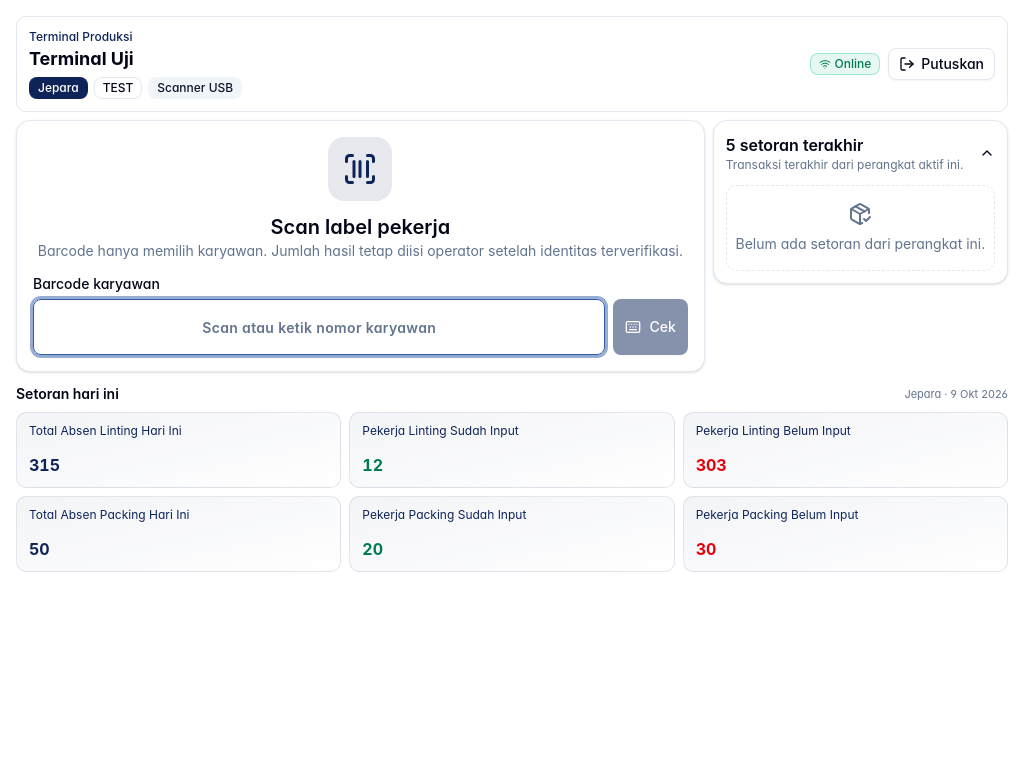
it: compact production deposit form › shows snapshot brand beside raw quantity in recent deposits without wage information
This screenshot has width=1024, height=768.
Type "TEST-001" into the field labelled "Barcode karyawan".
click(319, 327); type("TEST-001")  # box [33,299,606,355]
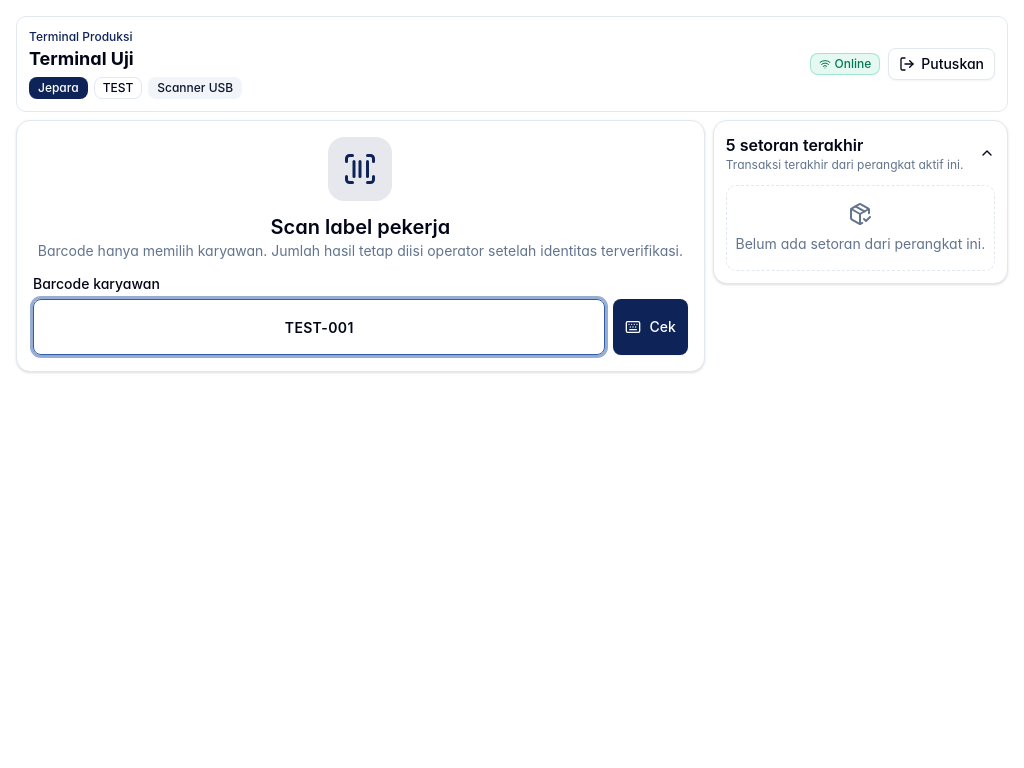
Click the button "Cek".
click(651, 327)  # box [614,299,688,355]
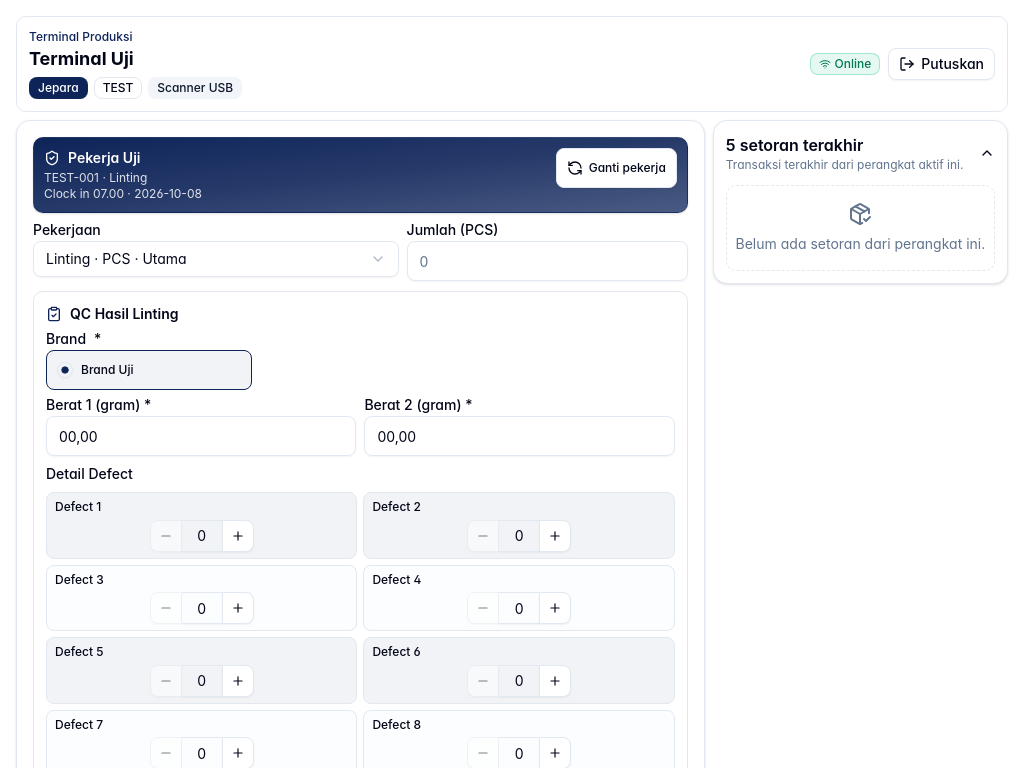
Type "500" into the field labelled "Jumlah (PCS)".
click(547, 261); type("500")  # box [407,241,688,281]
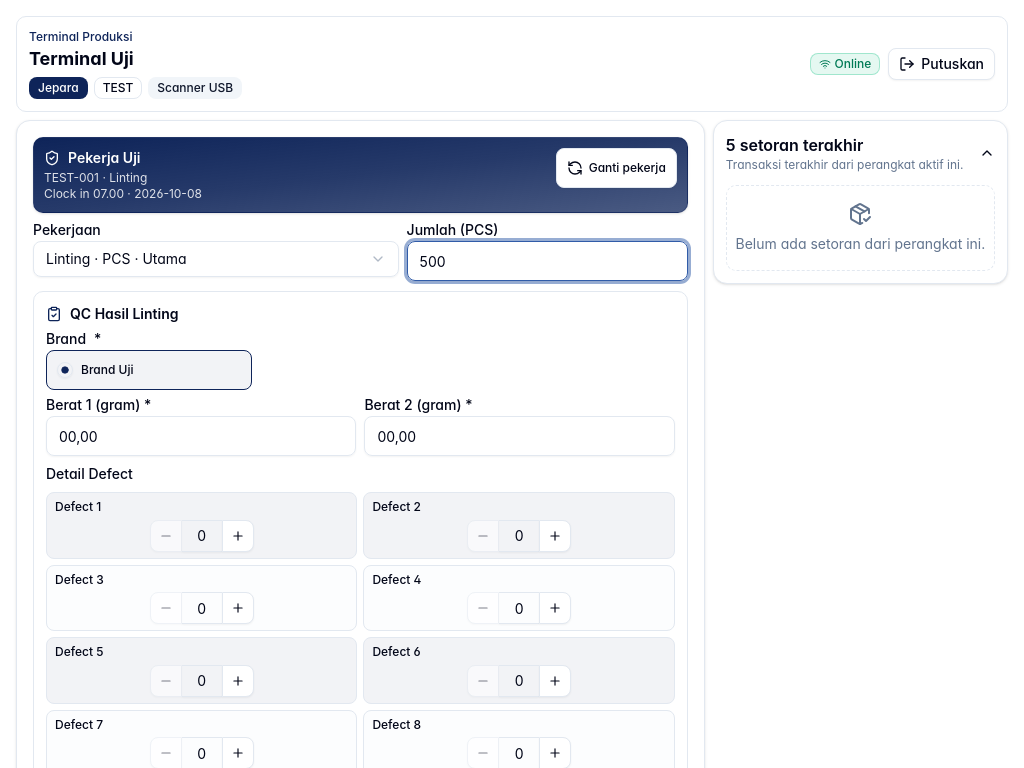
Type "80" into the field labelled "Berat 1 (gram) *".
click(201, 436); type("80")  # box [46,416,356,456]
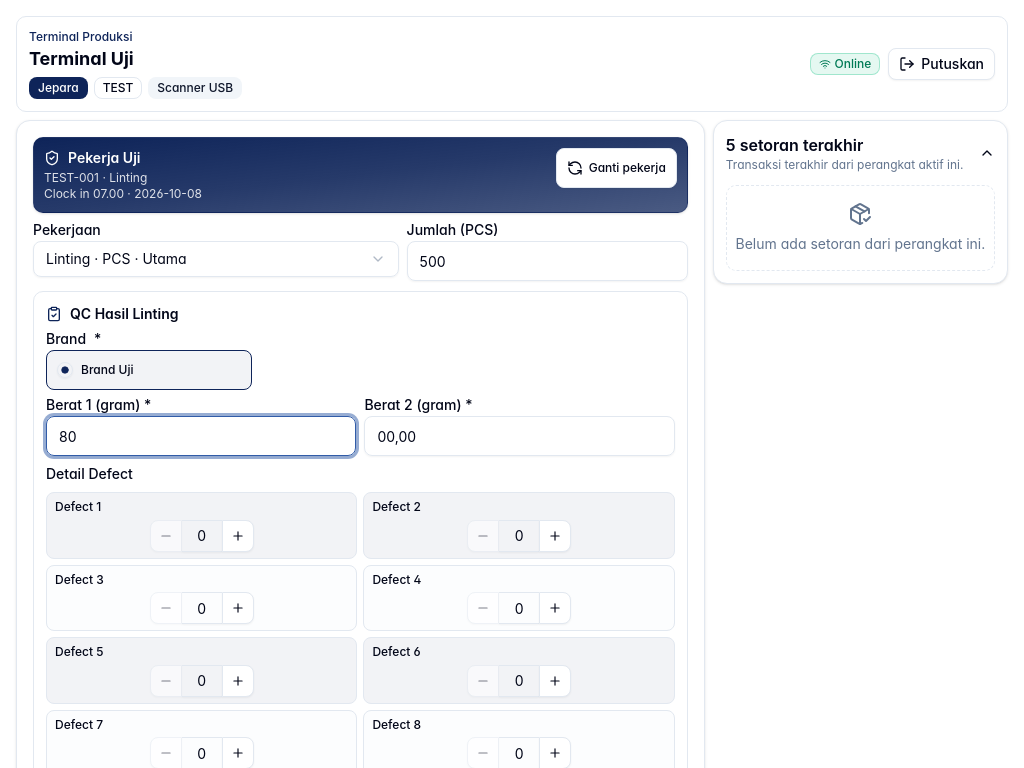
Type "81" into the field labelled "Berat 2 (gram) *".
click(520, 436); type("81")  # box [364,416,675,456]
(page scrolled)
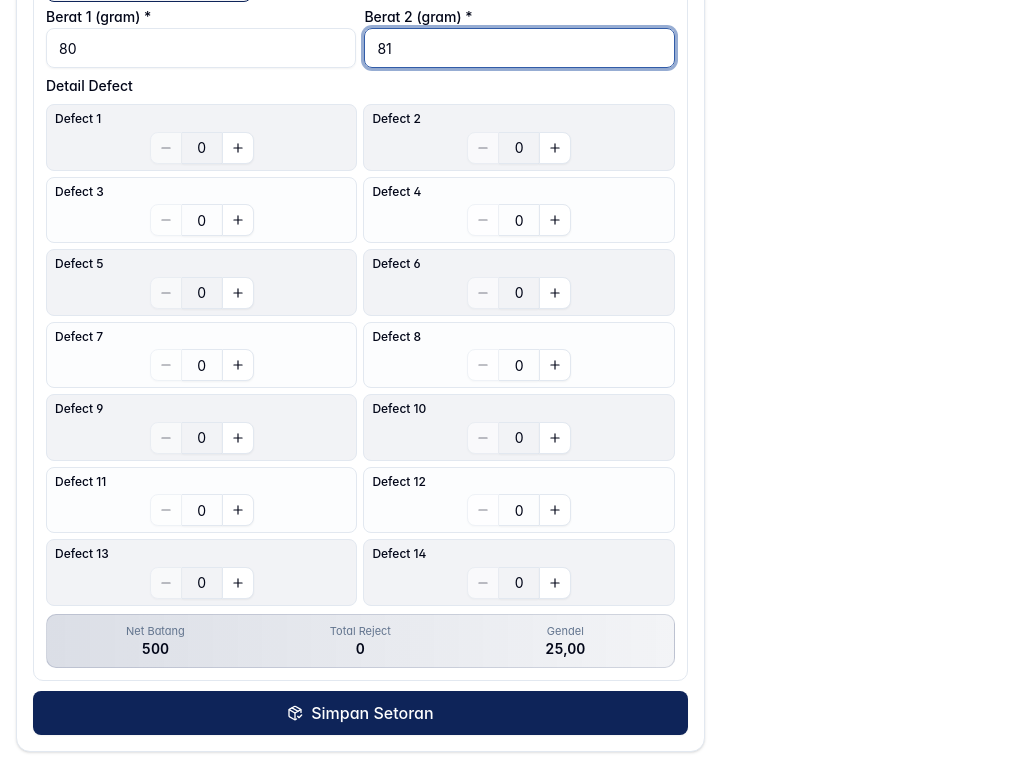
Click the button "Simpan Setoran".
click(360, 713)  # box [33,691,688,735]
(page scrolled)
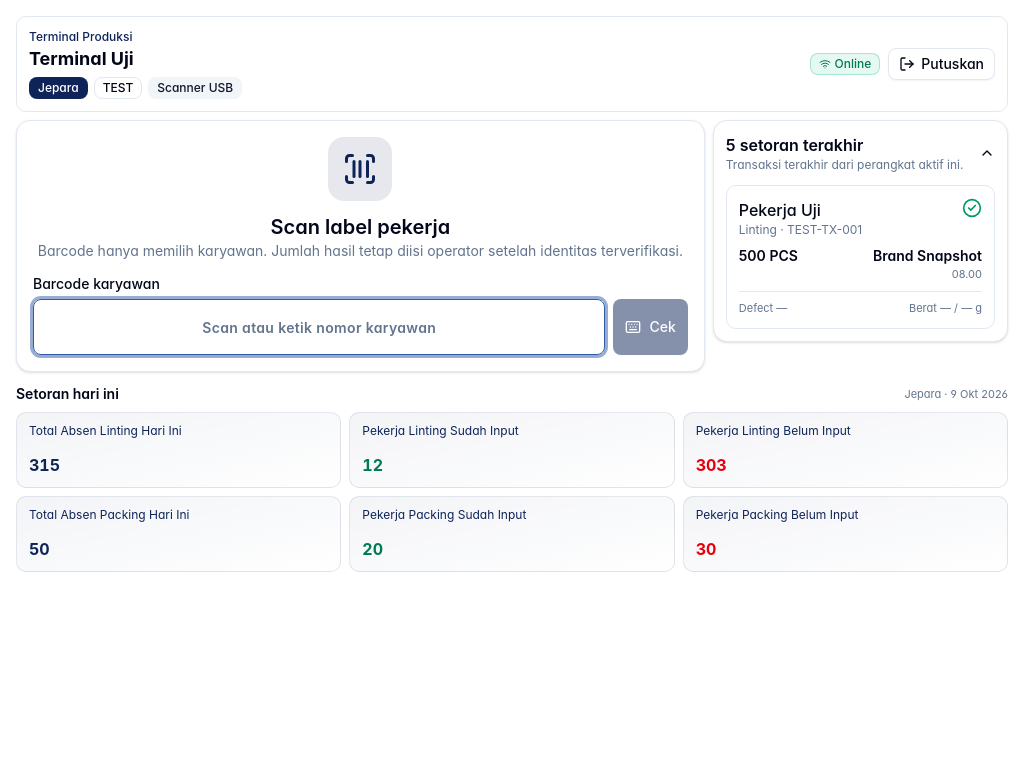
Result: the text "Brand Snapshot" is shown at [873,246,982,266]
Result: the text "500 PCS" is shown at [739,246,798,266]
Result: the text "Defect —" is shown at [739,300,787,316]
